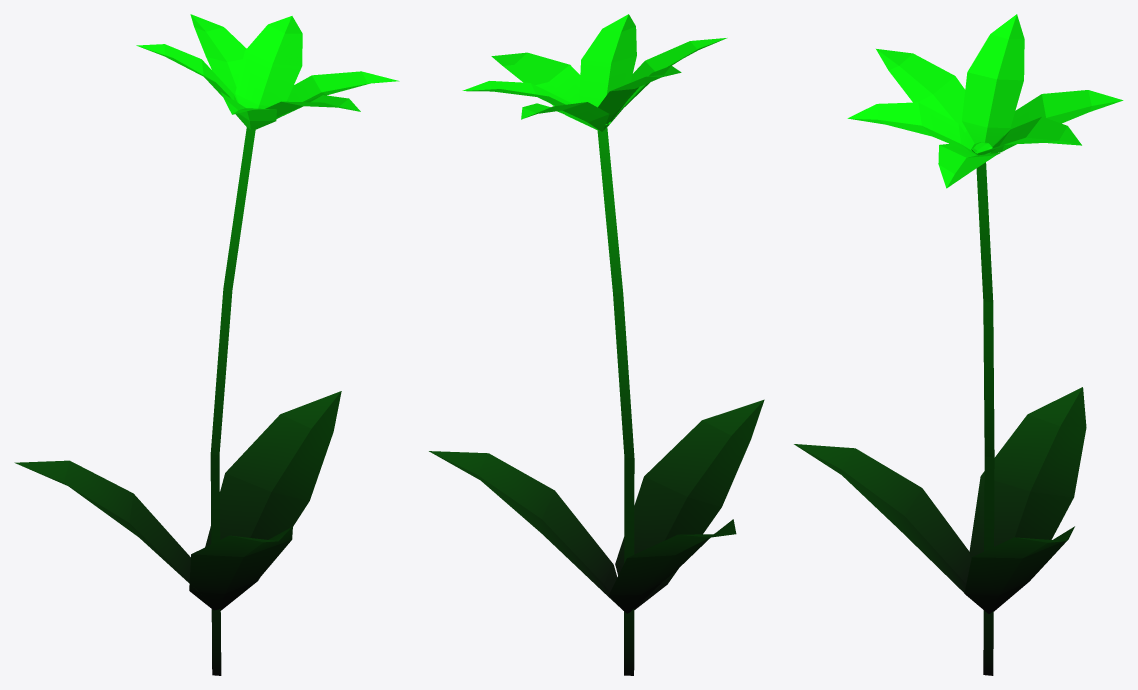
The model's file is SM_Flower_06.fbx.
3 renders of one model, left to right at view 1: azimuth 30°, elevation 25°; view 2: azimuth 150°, elevation 25°; view 3: azimuth 270°, elevation 25°, orthographic.
Parts seen in each view (by area): view 1: SM_Flower_06; view 2: SM_Flower_06; view 3: SM_Flower_06.
Part boxes in pixels (bbox=[...]): SM_Flower_06: bbox=[14, 14, 399, 675]; SM_Flower_06: bbox=[429, 14, 764, 675]; SM_Flower_06: bbox=[794, 14, 1123, 675].
Size of the model in its own units: 55.54 by 105 by 50.34.
